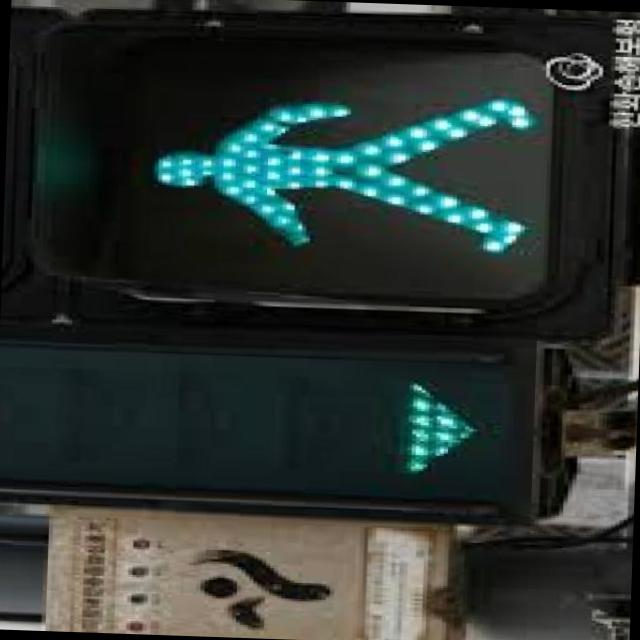green_light: (148, 56, 557, 284)
